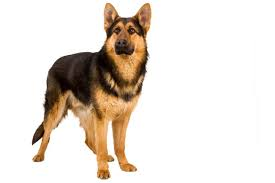dog: (70, 1, 160, 183)
